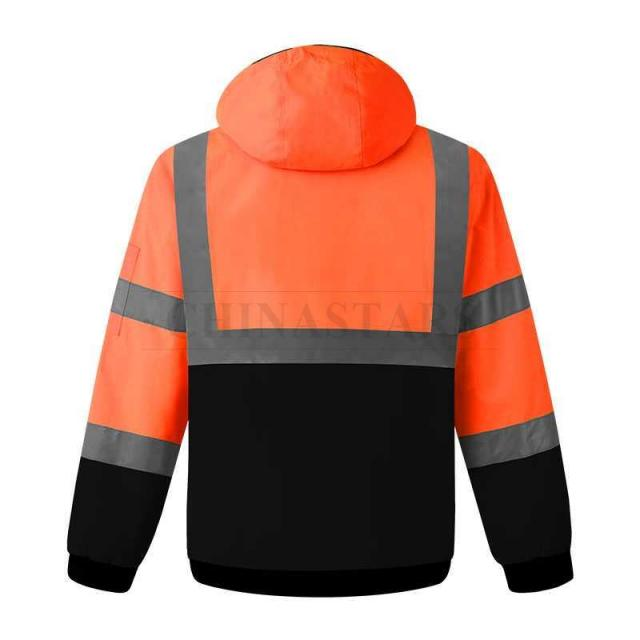Reflective-Jacket: (38, 97, 624, 631)
